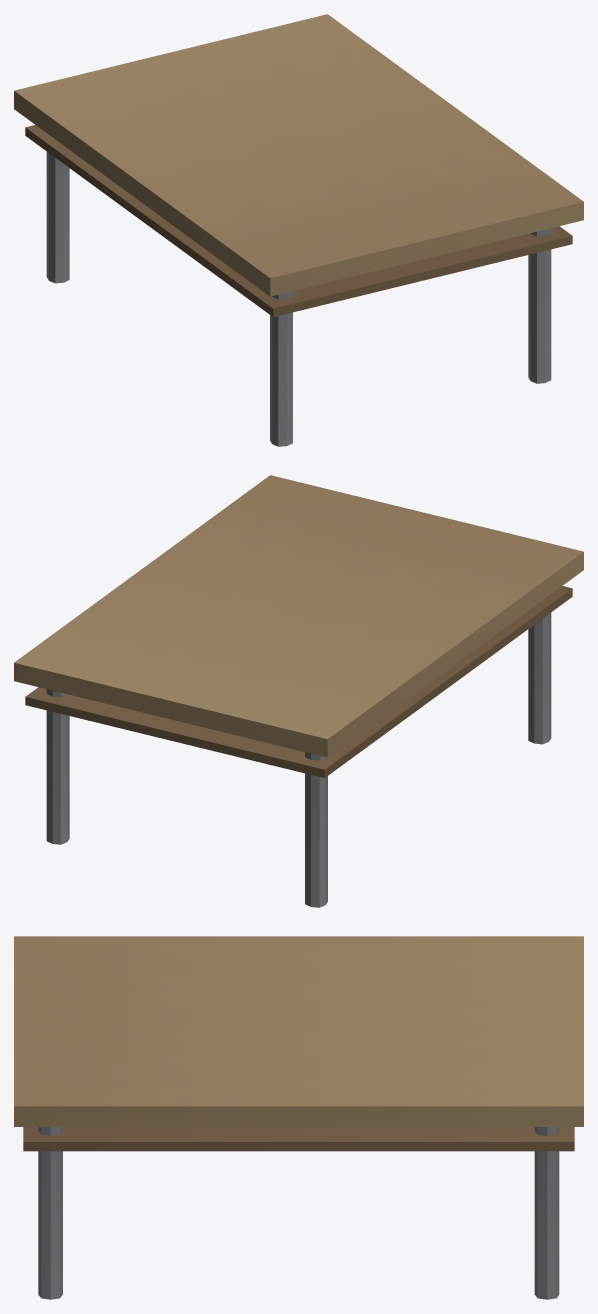
Rendered from table_1.glb.
3 renders of one model, top to bottom at view 1: azimuth 30°, elevation 25°; view 2: azimuth 150°, elevation 25°; view 3: azimuth 270°, elevation 25°, orthographic. The views are drawn at different scales.
Visible parts, largest first — view 1: table_1; view 2: table_1; view 3: table_1.
Boxes of the visible parts, bbox=[...] form: table_1: bbox=[14, 14, 583, 446]; table_1: bbox=[14, 475, 583, 907]; table_1: bbox=[14, 936, 583, 1299].
Size of the model in its own units: 1.15 by 0.641 by 1.63.
1 material, 1 textured.
